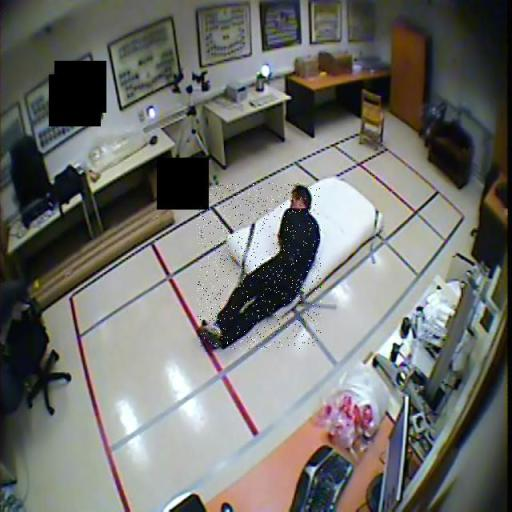Fall: (197, 183, 321, 349)
